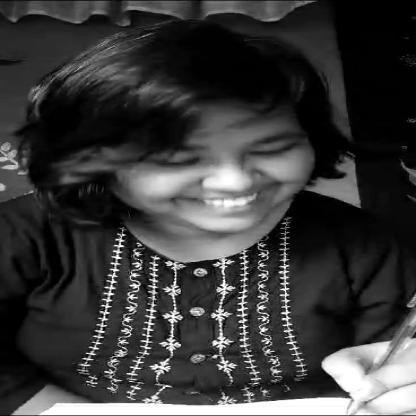Distracted: (69, 58, 343, 239)
